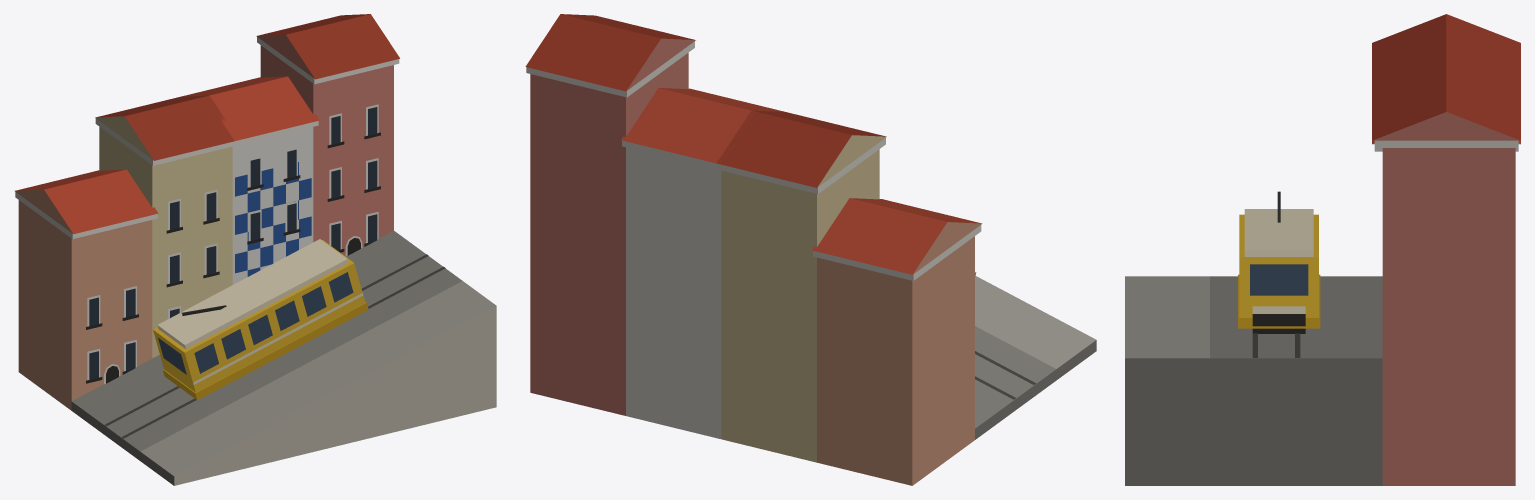
Rendered from tram.glb.
3 renders of one model, left to right at view 1: azimuth 30°, elevation 25°; view 2: azimuth 150°, elevation 25°; view 3: azimuth 270°, elevation 25°, orthographic. The views are drawn at different scales.
Parts seen in each view (by area): view 1: tram; view 2: tram; view 3: tram.
Part boxes in pixels (x1=…): tram: x1=15, y1=14, x2=496, y2=485; tram: x1=525, y1=14, x2=1096, y2=485; tram: x1=1125, y1=14, x2=1520, y2=485.
Size of the model in its own units: 1.78 by 1.56 by 1.49.
